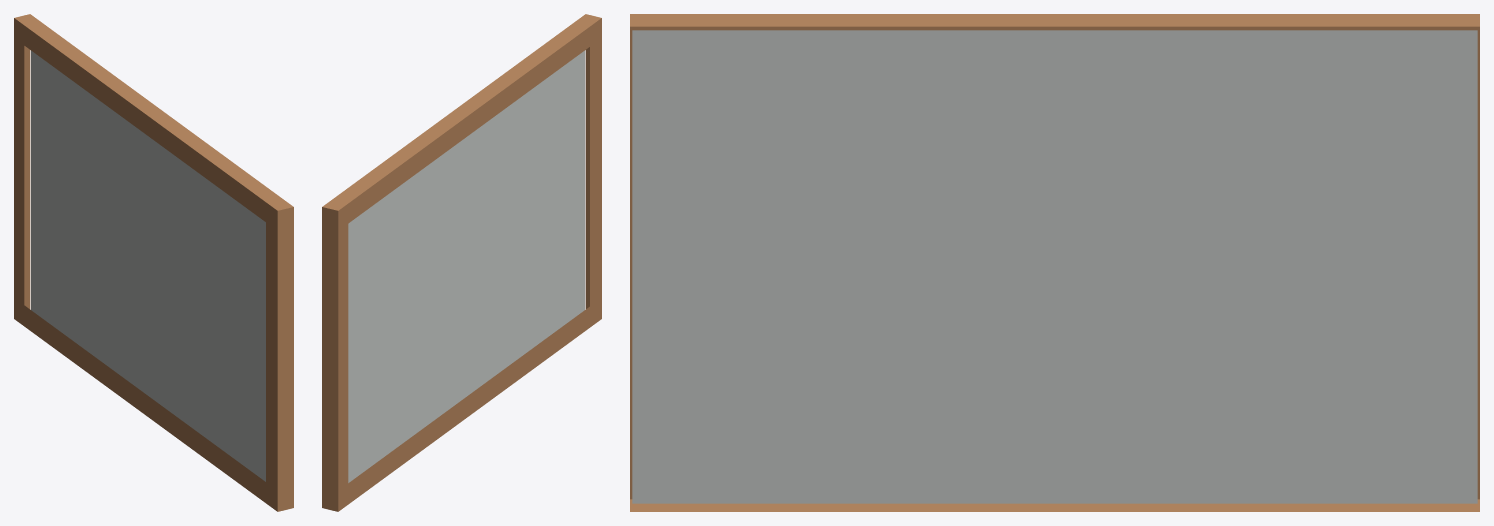
The model's file is whiteboard.glb.
The picture shows the model from 3 angles, left to right: view 1: azimuth 30°, elevation 25°; view 2: azimuth 150°, elevation 25°; view 3: azimuth 270°, elevation 25°; orthographic projection. The views are drawn at different scales.
Parts seen in each view (by area): view 1: Plane; view 2: Plane; view 3: Plane.
Part boxes in pixels (x1,y1,x2,y2): Plane: (14,14,293,511); Plane: (322,14,601,511); Plane: (630,14,1479,511).
Size of the model in its own units: 0.2088 by 3.73 by 5.92.
